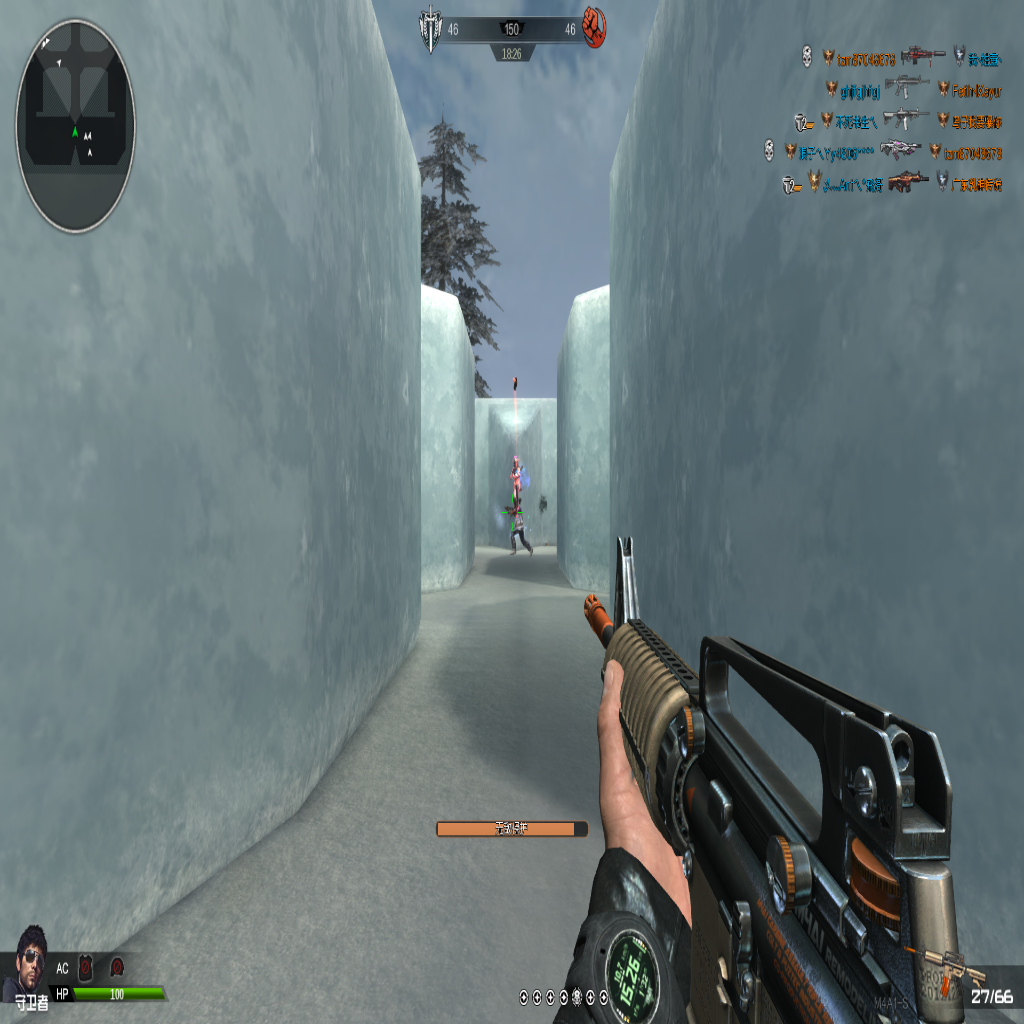tt: (505, 458, 532, 504)
